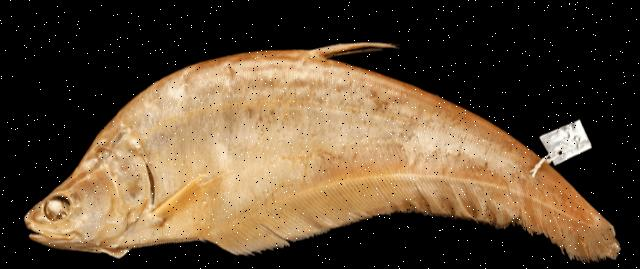Mulut: (18, 206, 80, 254)
Sirip Dada: (146, 162, 234, 240)
Sirip Punggung: (305, 36, 413, 66)
